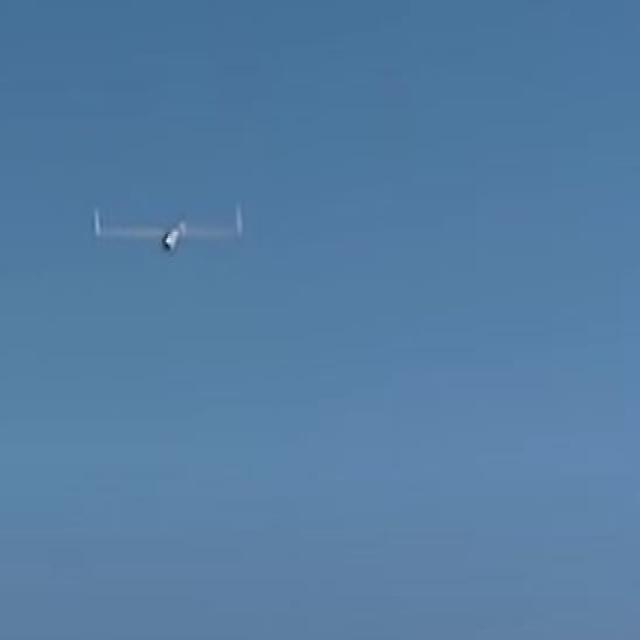iha: (93, 226, 245, 229)
